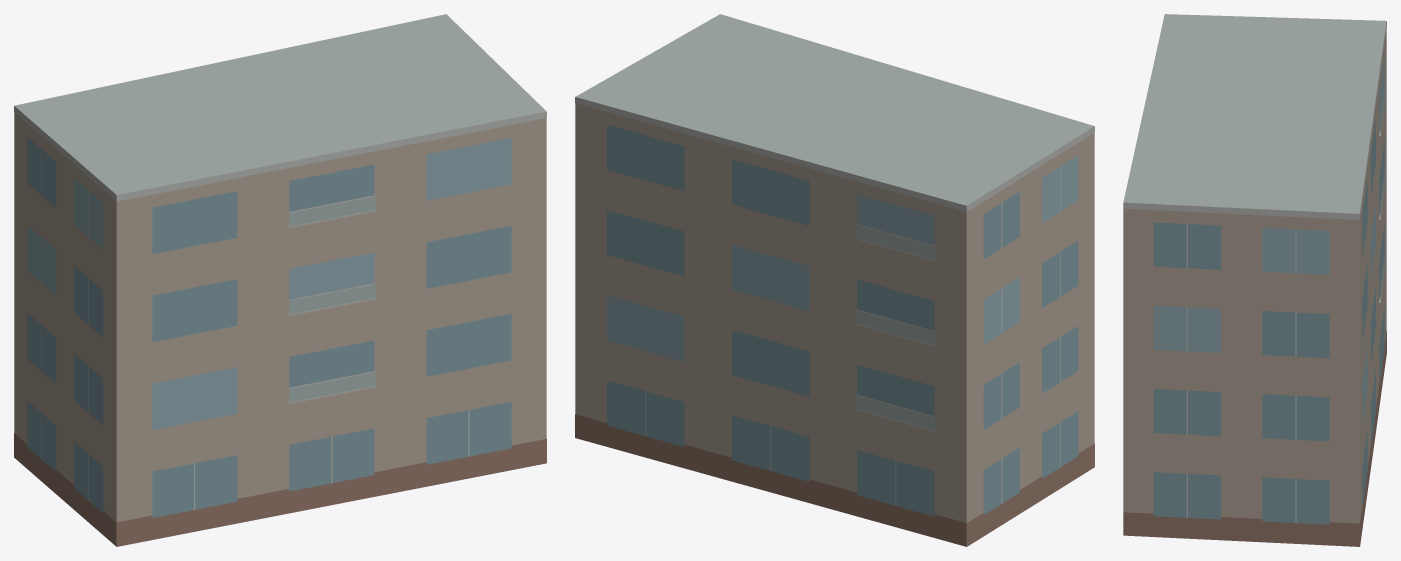
File: survey-upis-32762046.glb
3 views of the same model, side by side, from view 1: azimuth 30°, elevation 25°; view 2: azimuth 150°, elevation 25°; view 3: azimuth 270°, elevation 25° (orthographic). The views are drawn at different scales.
Visible parts, largest first — view 1: survey-upis-32762046.tmp; view 2: survey-upis-32762046.tmp; view 3: survey-upis-32762046.tmp.
Part boxes in pixels (x1,y1,x2,y2): survey-upis-32762046.tmp: [14, 14, 546, 546]; survey-upis-32762046.tmp: [575, 14, 1094, 546]; survey-upis-32762046.tmp: [1123, 14, 1386, 546].
Size of the model in its own units: 17.07 by 13.25 by 9.51.
